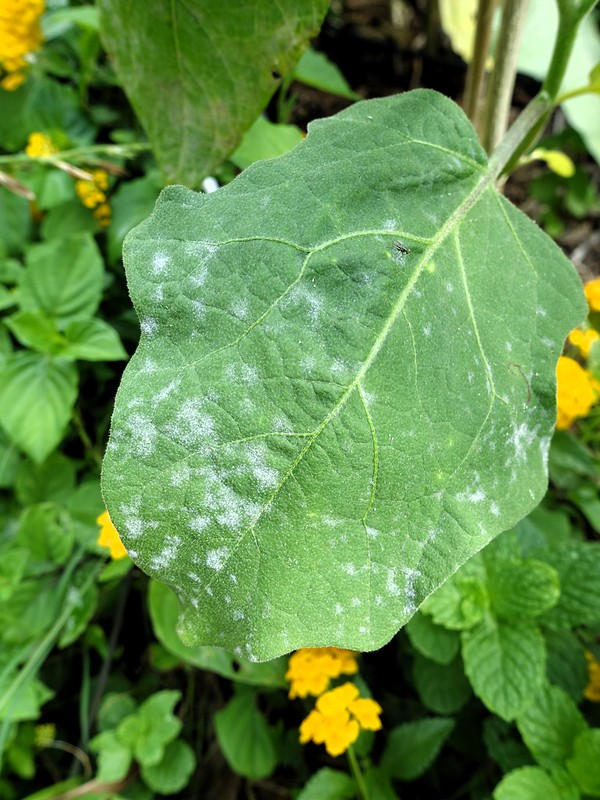Eggplant_PowderyMildew: (124, 125, 574, 669)
